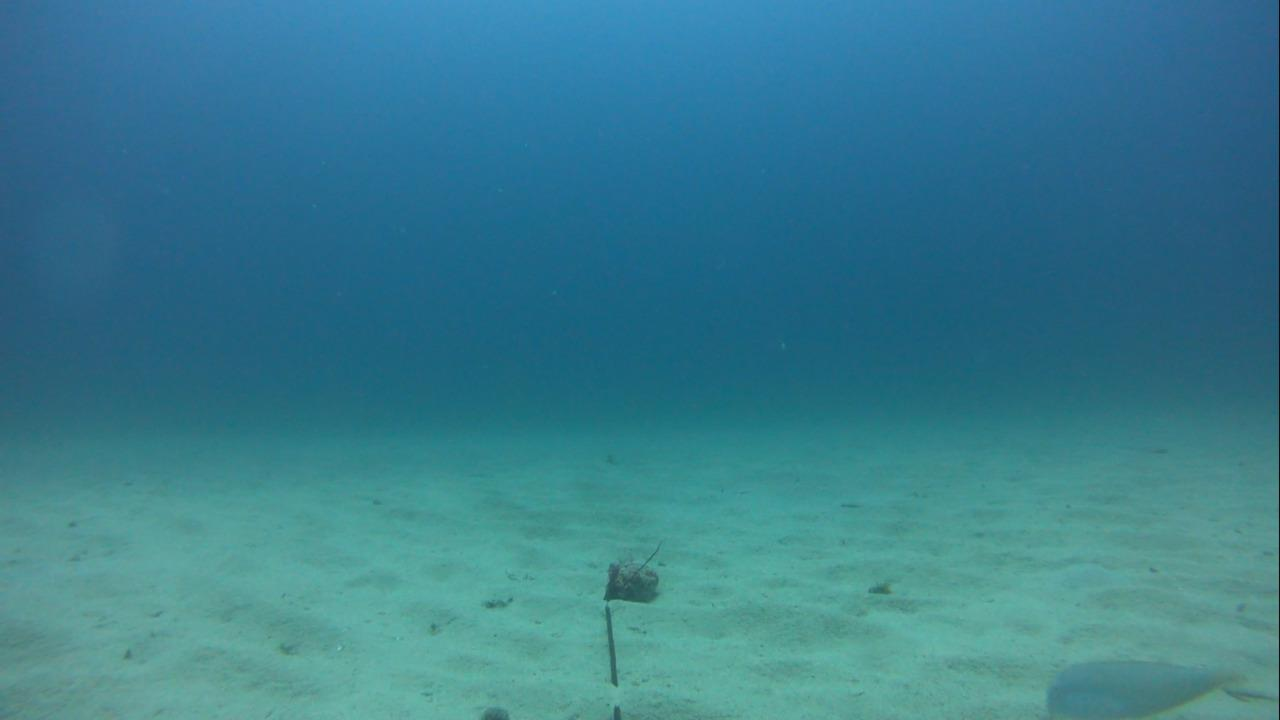raor: (1034, 649, 1243, 718)
